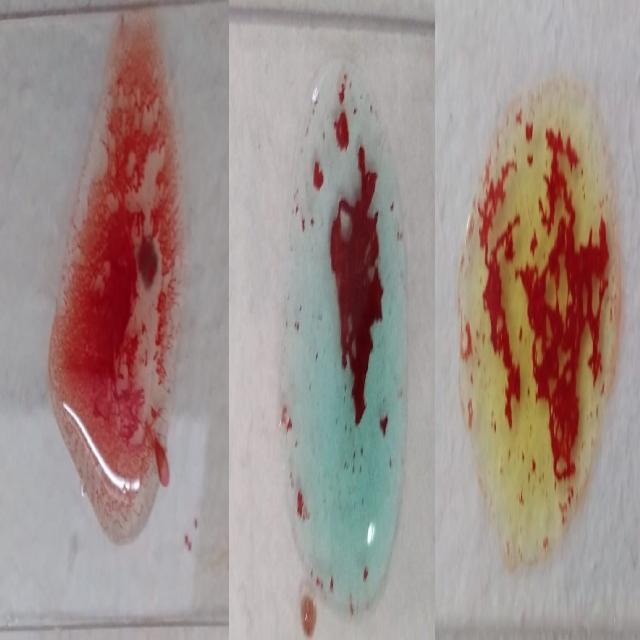A: (279, 63, 418, 603)
B: (460, 78, 622, 554)
D: (46, 37, 185, 534)
